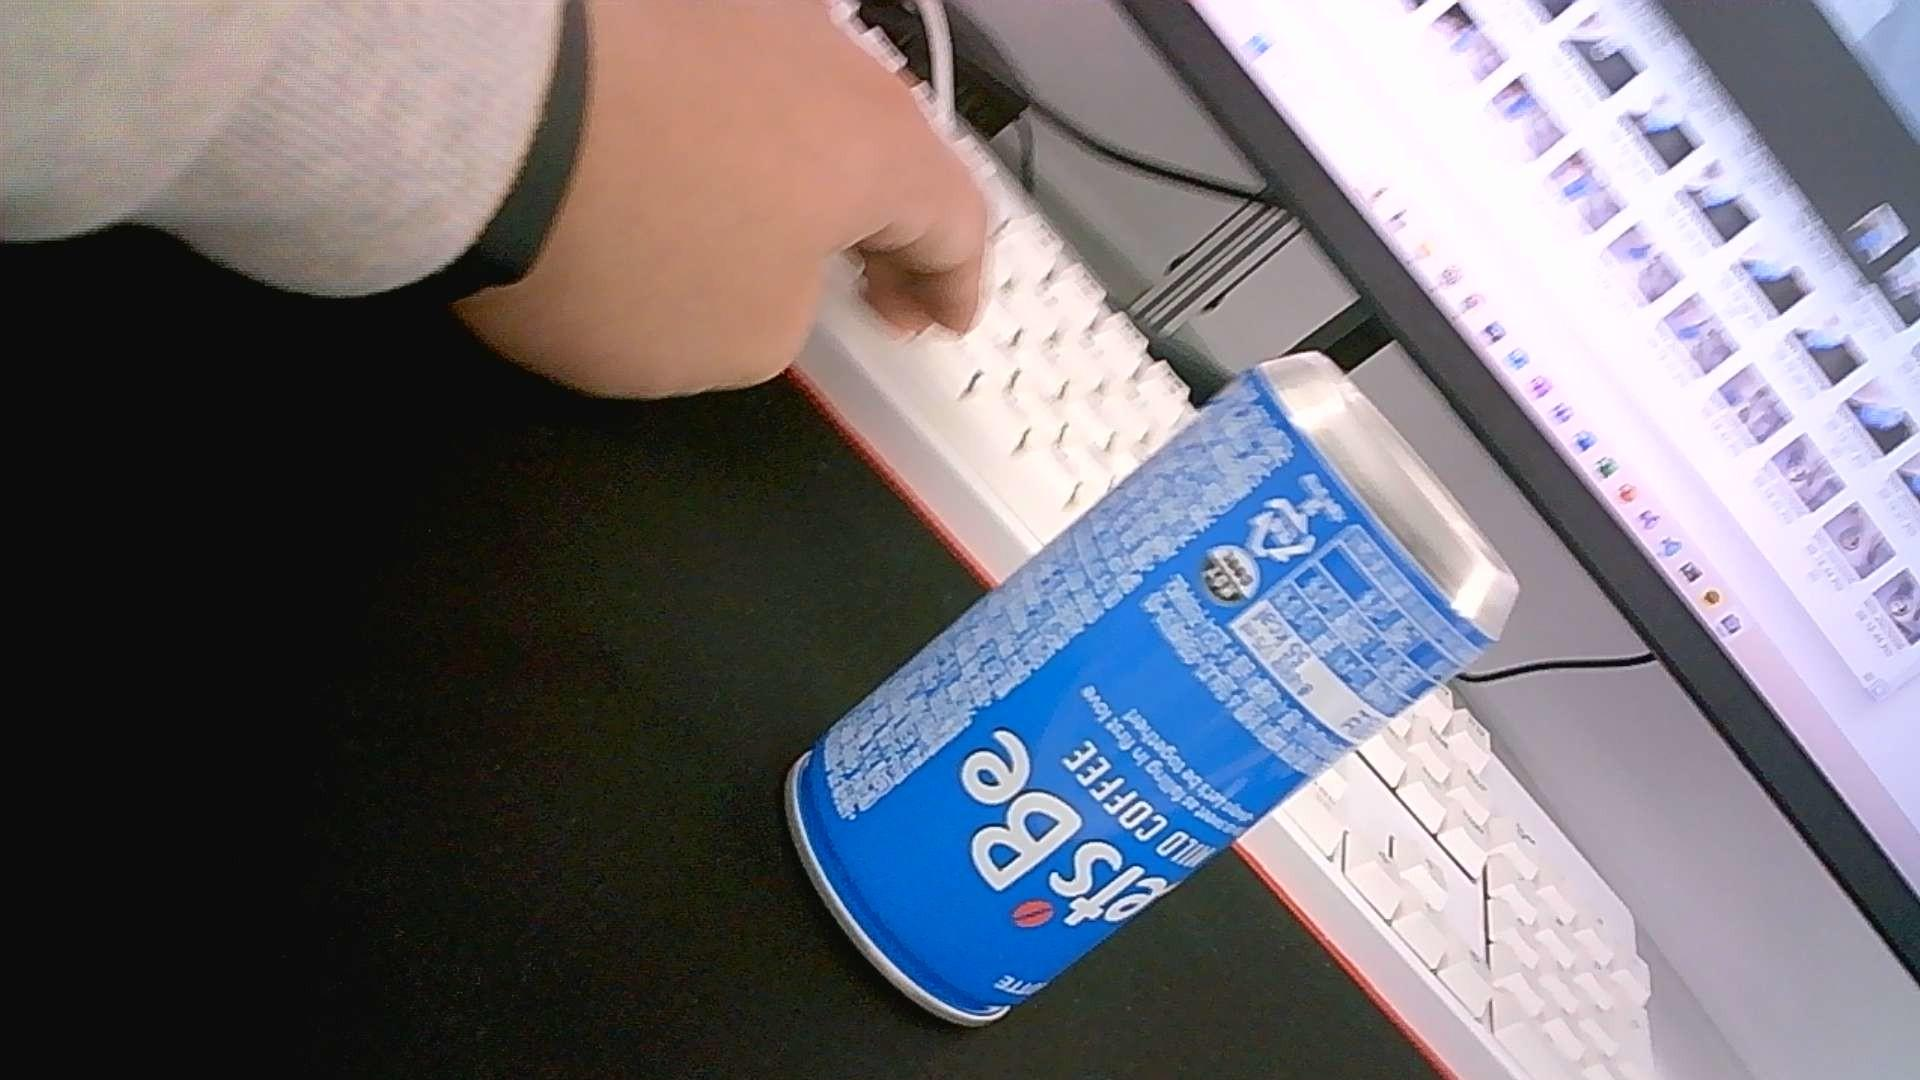letsbe: (787, 349, 1519, 1029)
